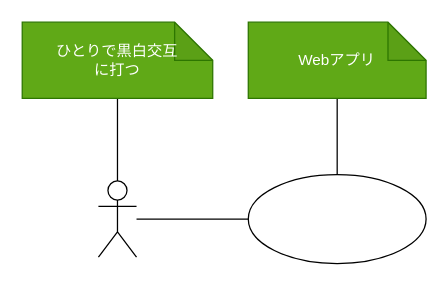
This 448x306 diagram has some shape labels left out. The shapes that lost their labels are listed below. From the top down, each one's box as (x1, y1, x2, y2) in pixels, then its label:
(97, 180, 137, 257): プレイヤー
(247, 173, 426, 264): リバーシ アプリケーション
